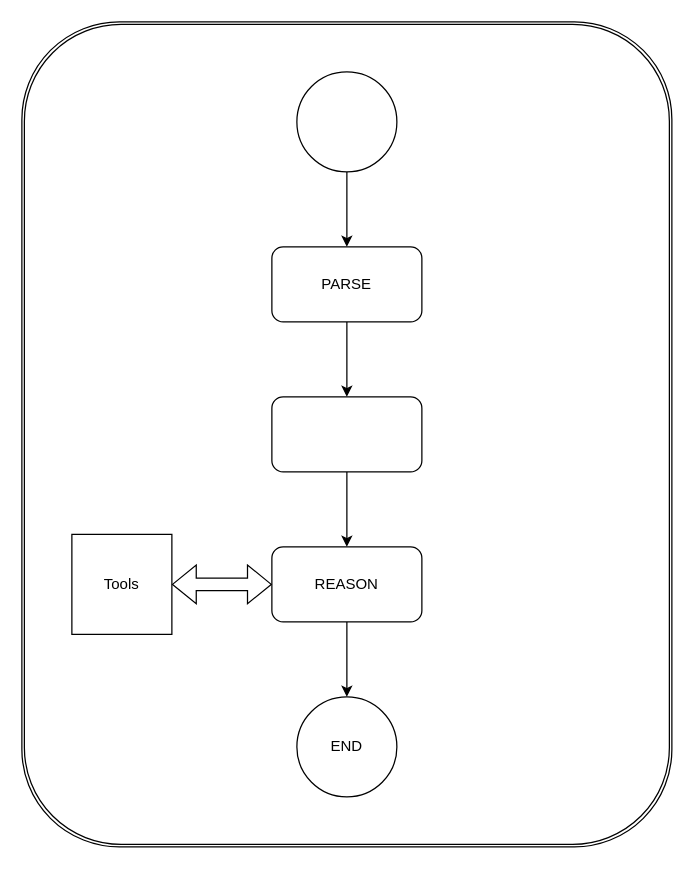
The diagram is 694 pixels wide and 869 high, and some of its shapes have lost their labels. Here are the shapes that lost their labels. From the top down, the centre of each, then its label:
At (346,121): "START".
At (346,434): "RESOLVE".
